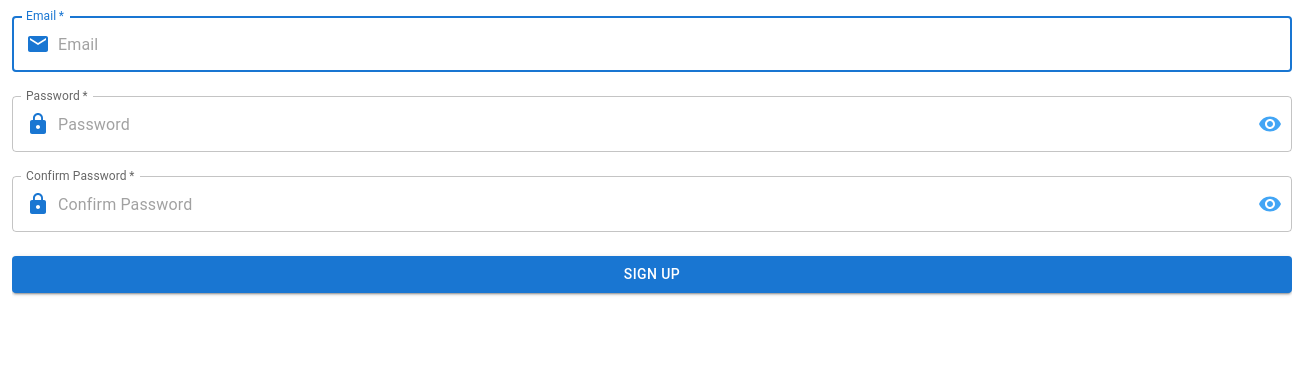
Form › should show error message if "Confirm Password" is empty
The width and height of the screenshot is (1304, 381).
Type "P4ssw0rd" into the password field with test id "password-input-field" at (650, 124), box [58, 96, 1242, 152]
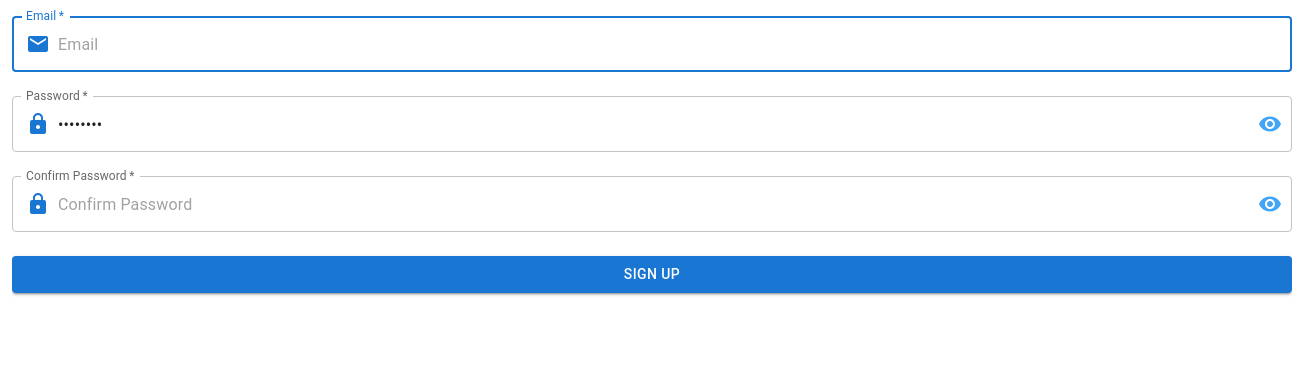
Click the button with test id "sign-up-button" at (652, 274), box [12, 256, 1292, 292]
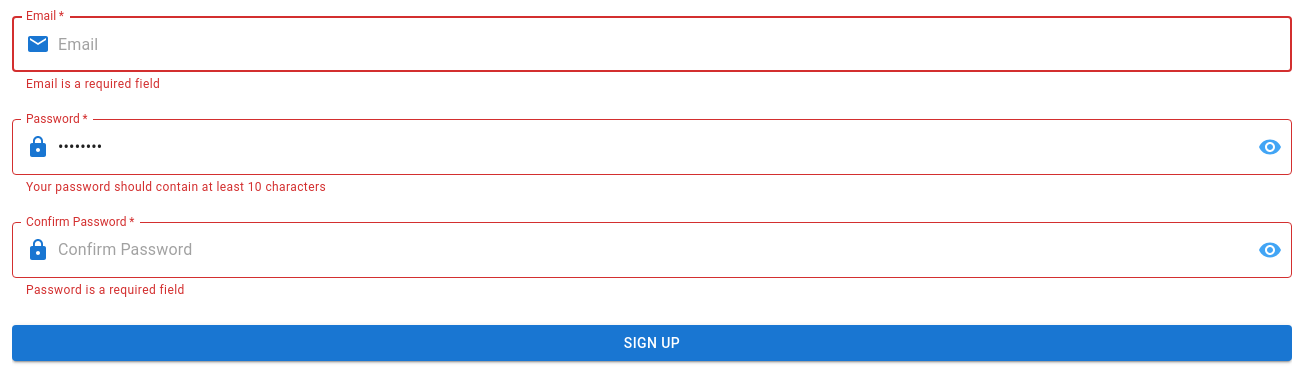
Result: the element with test id "confirm-password" shows "Password is a required field" at [26, 283, 185, 297]
